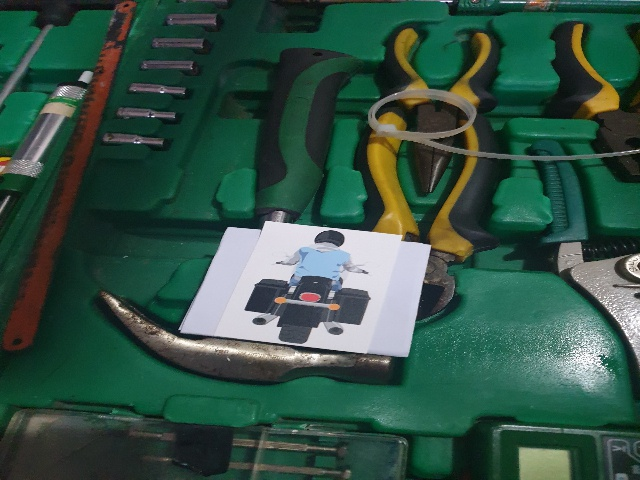Motorcycle: (251, 224, 371, 348)
